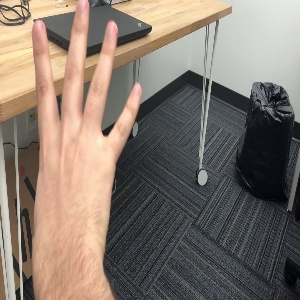hand: (31, 1, 141, 263)
